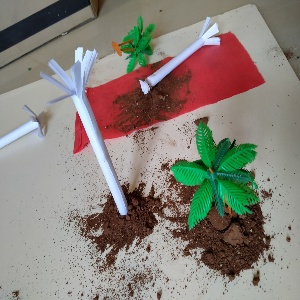plant: (168, 118, 262, 237), (108, 14, 162, 79)
weed: (35, 44, 137, 238), (144, 17, 219, 103), (1, 109, 50, 145)
